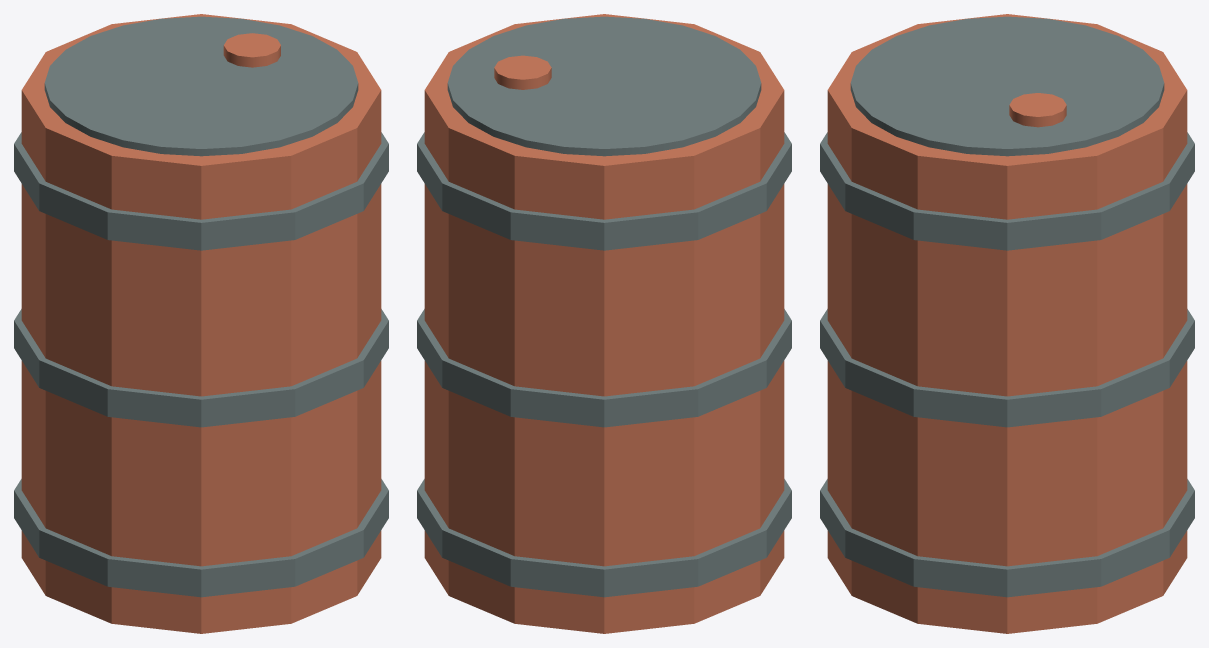
Rendered from barrel.glb.
The picture shows the model from 3 angles, left to right: view 1: azimuth 30°, elevation 25°; view 2: azimuth 150°, elevation 25°; view 3: azimuth 270°, elevation 25°; orthographic projection.
Visible parts, largest first — view 1: FuelDrum, Detail recessed lid, DrumBand, DrumBand.002, DrumBand.001, Detail filler cap; view 2: FuelDrum, Detail recessed lid, DrumBand, DrumBand.002, DrumBand.001, Detail filler cap; view 3: FuelDrum, Detail recessed lid, DrumBand, DrumBand.002, DrumBand.001, Detail filler cap.
Part boxes in pixels (left/top/right/bottom): FuelDrum: left=21, top=14, right=381, bottom=633; Detail recessed lid: left=44, top=16, right=358, bottom=156; DrumBand: left=14, top=479, right=388, bottom=597; DrumBand.002: left=14, top=132, right=388, bottom=250; DrumBand.001: left=14, top=309, right=388, bottom=427; Detail filler cap: left=223, top=33, right=280, bottom=67; FuelDrum: left=424, top=14, right=784, bottom=633; Detail recessed lid: left=447, top=16, right=761, bottom=156; DrumBand: left=417, top=479, right=791, bottom=597; DrumBand.002: left=417, top=132, right=791, bottom=250; DrumBand.001: left=417, top=309, right=791, bottom=427; Detail filler cap: left=494, top=55, right=551, bottom=89; FuelDrum: left=827, top=14, right=1187, bottom=633; Detail recessed lid: left=850, top=16, right=1164, bottom=156; DrumBand: left=820, top=479, right=1194, bottom=597; DrumBand.002: left=820, top=132, right=1194, bottom=250; DrumBand.001: left=820, top=309, right=1194, bottom=427; Detail filler cap: left=1009, top=93, right=1066, bottom=127.
Size of the model in its own units: 0.98 by 1.4 by 0.98.
